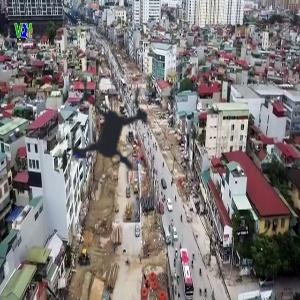drone: (13, 30, 216, 233)
